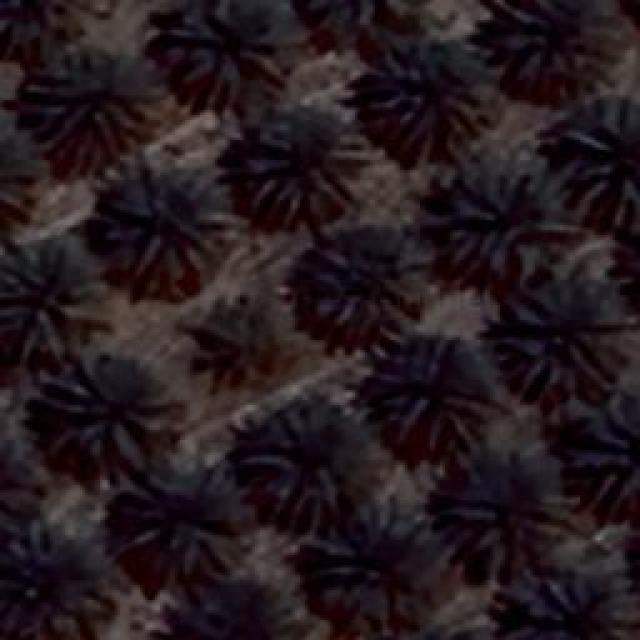PalmTree: (308, 504, 452, 636), (97, 461, 250, 581), (92, 150, 232, 280), (19, 35, 162, 155), (440, 155, 572, 275), (30, 360, 174, 468), (370, 29, 492, 152), (298, 231, 430, 339), (0, 530, 122, 640), (446, 445, 556, 565), (498, 280, 612, 390), (380, 338, 482, 458), (0, 237, 102, 352), (170, 0, 277, 102), (242, 130, 370, 212), (255, 410, 343, 515), (562, 108, 636, 228), (147, 580, 300, 638), (288, 0, 427, 56), (502, 572, 616, 638), (497, 0, 597, 72), (188, 305, 274, 385), (578, 394, 638, 508), (0, 119, 42, 241), (0, 428, 43, 547), (0, 0, 79, 55)
